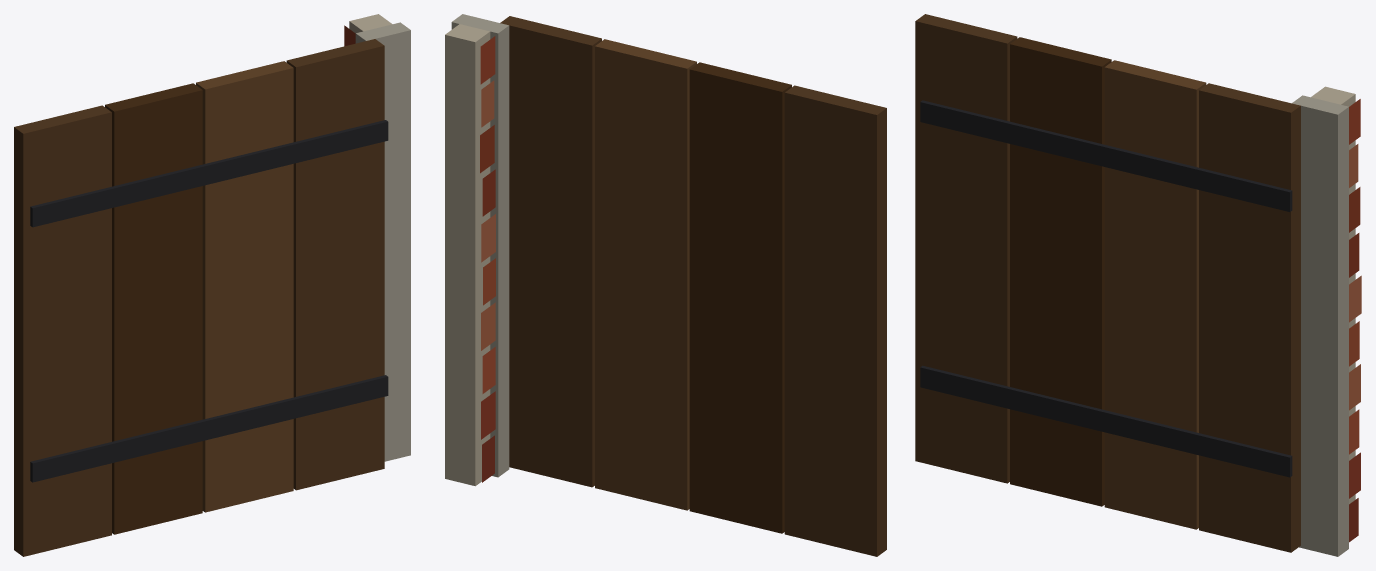
Rendered from wall-brick-door-open-low-l.glb.
3 views of the same model, side by side, from view 1: azimuth 30°, elevation 25°; view 2: azimuth 150°, elevation 25°; view 3: azimuth 330°, elevation 25° (orthographic). The views are drawn at different scales.
Parts seen in each view (by area): view 1: wall-brick-door-open-low-l; view 2: wall-brick-door-open-low-l; view 3: wall-brick-door-open-low-l.
Part boxes in pixels (x1,y1,x2,y2): wall-brick-door-open-low-l: (14,14,410,556); wall-brick-door-open-low-l: (445,14,886,556); wall-brick-door-open-low-l: (915,14,1361,556).
Size of the model in its own units: 0.977 by 1 by 0.155.
